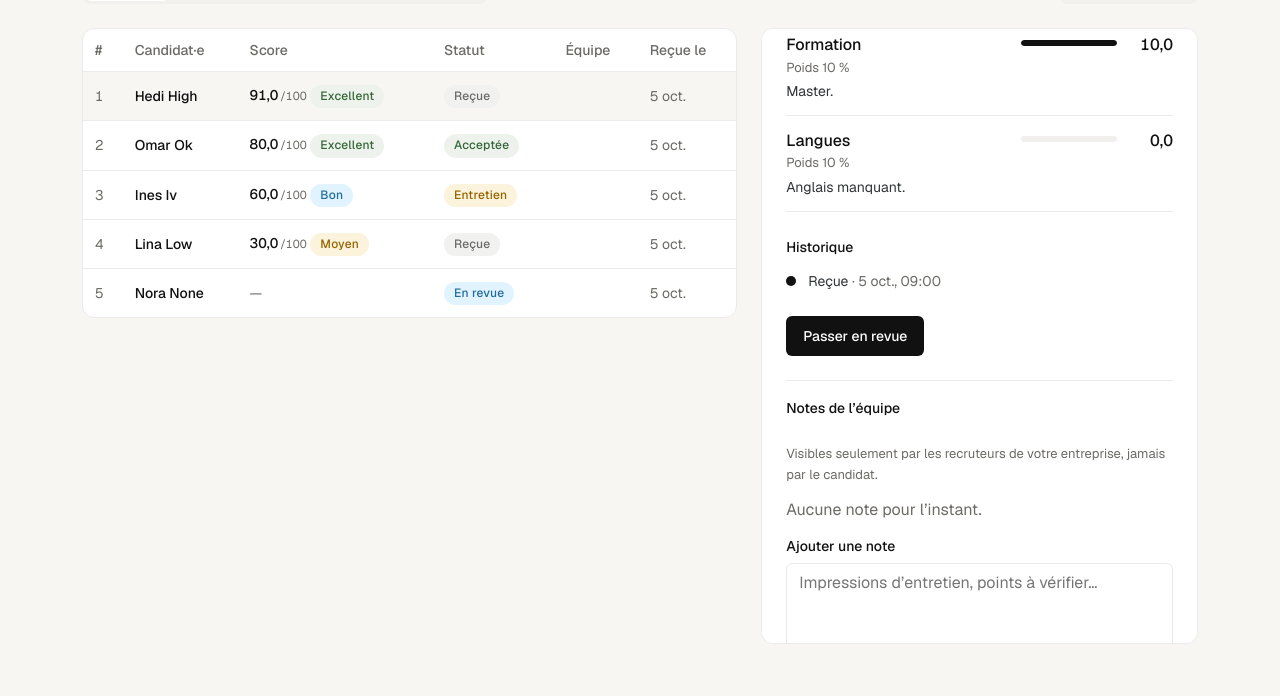
status changes › asks for a confirmation, then updates the row without reloading
(page scrolled)
Step 1. Click the button "Passer en revue" → (855, 336), box [786,316,924,356]
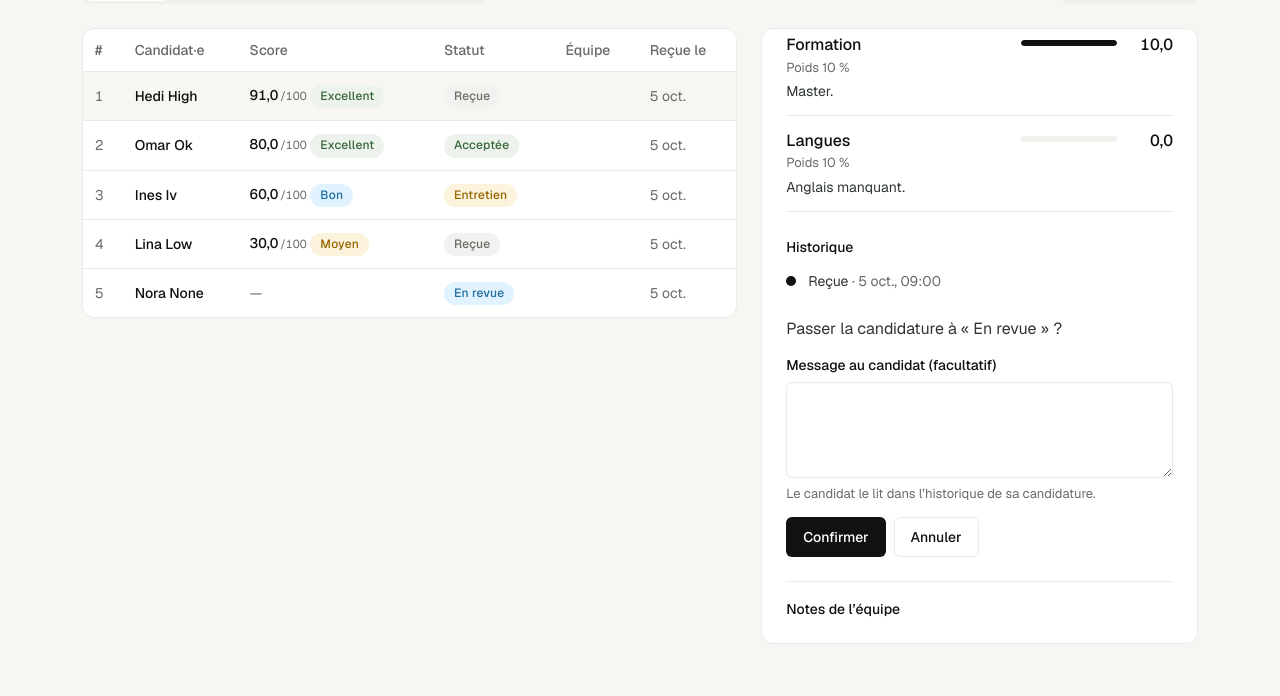
Now the text "Passer la candidature à « En revue » ?" is shown, box [786,318,1062,339]
Step 2. Click the button "Confirmer" → (836, 537), box [786,517,886,557]
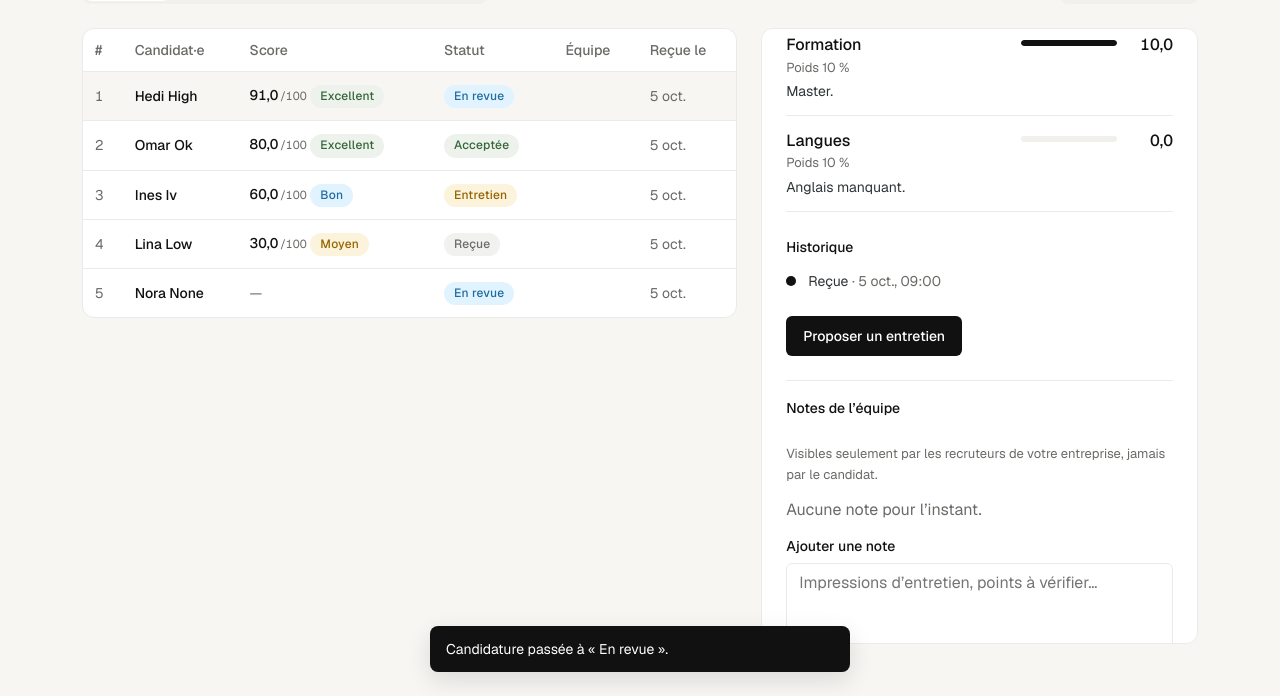
Now the text "Candidature passée à « En revue »." is shown, box [430,626,850,672]
Now the text "En revue" in the row of "Hedi High" is shown, box [454,88,504,104]
Now the button "Proposer un entretien" is shown, box [786,316,962,356]
